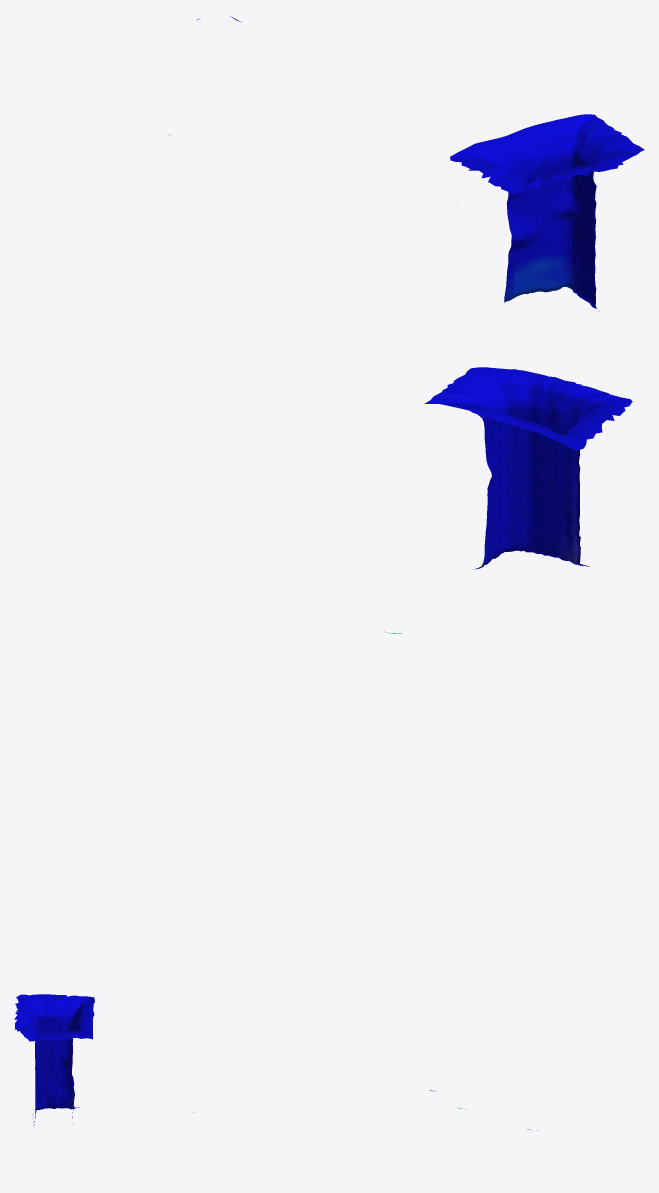
The model's file is FullLevelBaseMeshCeiling.gltf.
The picture shows the model from 3 angles, top to bottom: view 1: azimuth 30°, elevation 25°; view 2: azimuth 150°, elevation 25°; view 3: azimuth 270°, elevation 25°; orthographic projection. The views are drawn at different scales.
Visible parts, largest first — view 1: Plane.001; view 2: Plane.001; view 3: Plane.001.
Part boxes in pixels (x1,y1,x2,y2): Plane.001: (168, 16, 644, 311); Plane.001: (383, 367, 632, 633); Plane.001: (14, 994, 537, 1130).
Size of the model in its own units: 147 by 85.33 by 376.
